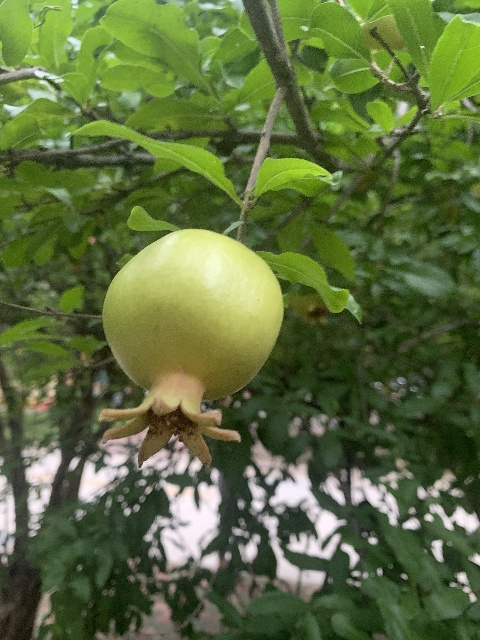mid-growth: (95, 228, 283, 471)
